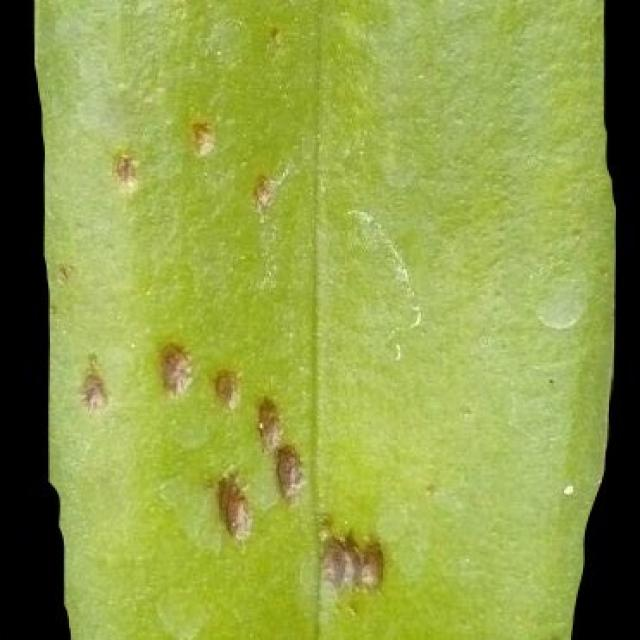mite: (76, 333, 388, 599), (104, 114, 283, 216), (319, 533, 357, 592), (355, 536, 385, 592), (254, 392, 283, 449), (78, 369, 107, 411), (555, 478, 578, 502), (559, 481, 574, 497)
spots: (33, 0, 616, 638)
